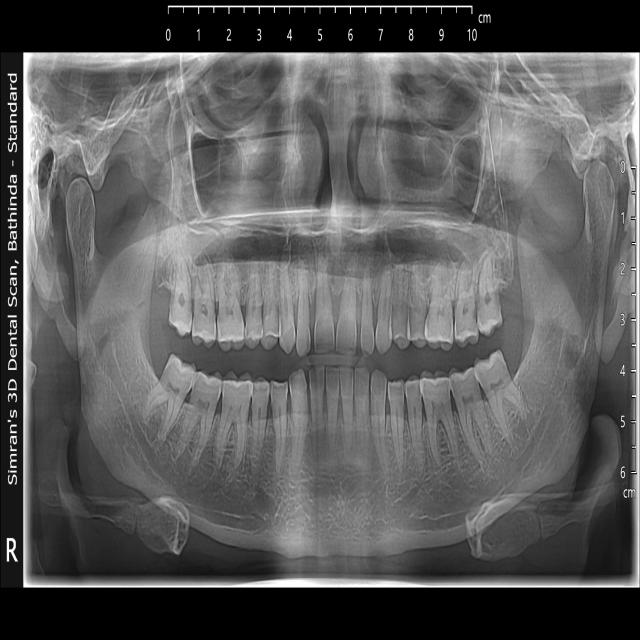Mandibular Canal: (409, 318, 588, 520), (98, 343, 278, 520)
maxillary sinus: (169, 93, 290, 285), (376, 108, 506, 286)
